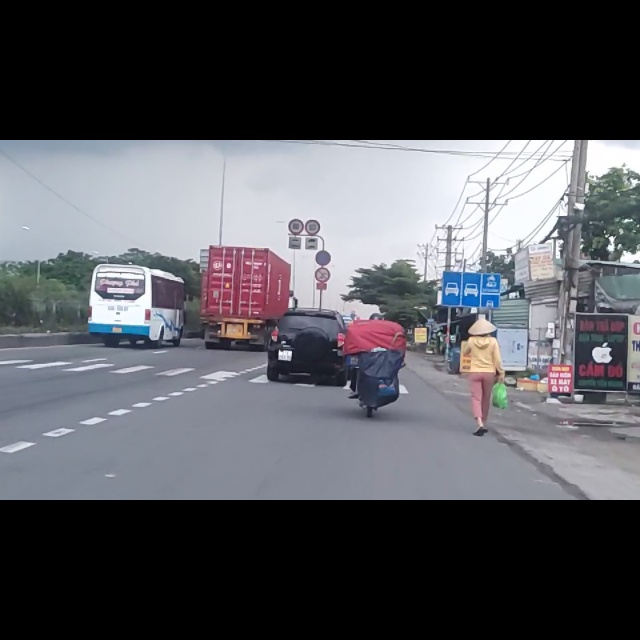bien_cam: (443, 231, 499, 301), (315, 196, 331, 224), (305, 141, 321, 169), (289, 140, 304, 168), (315, 226, 331, 252)
